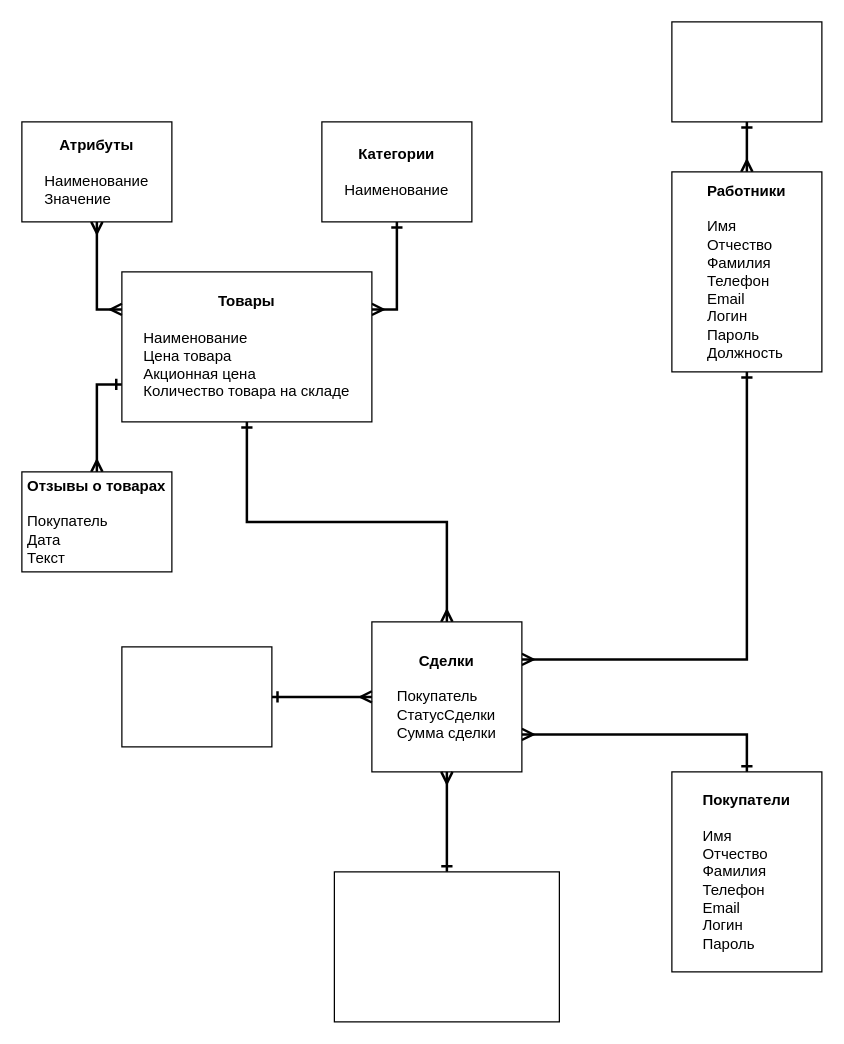
This 844x1044 diagram has some shape labels left out. The centre of each missing label's shape, as x and y in pixels:
"Должности Наименование" belongs at pixel 746 71.
"Купоны Наименование Описание Минимальная цена сделки Сумма скидки" belongs at pixel 446 946.
"СтатусыСделки Описание" belongs at pixel 196 696.
